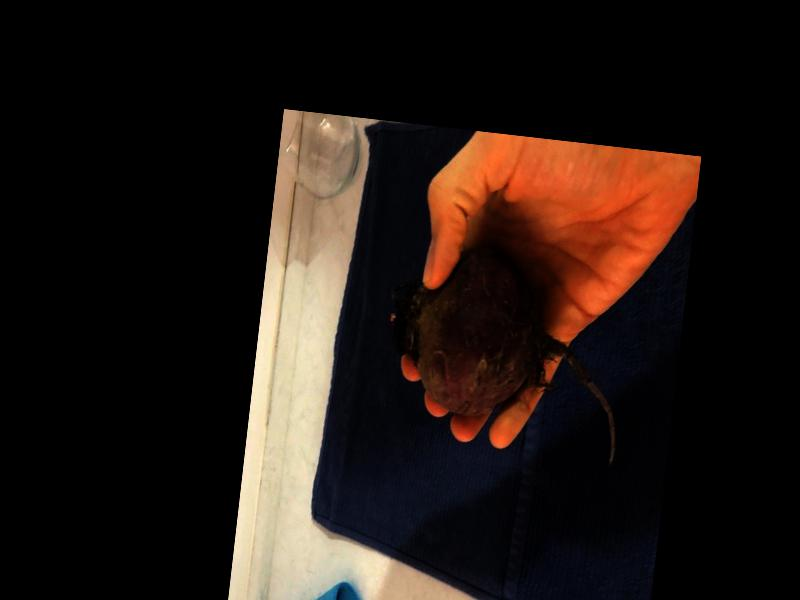Beet: (375, 236, 636, 469)
